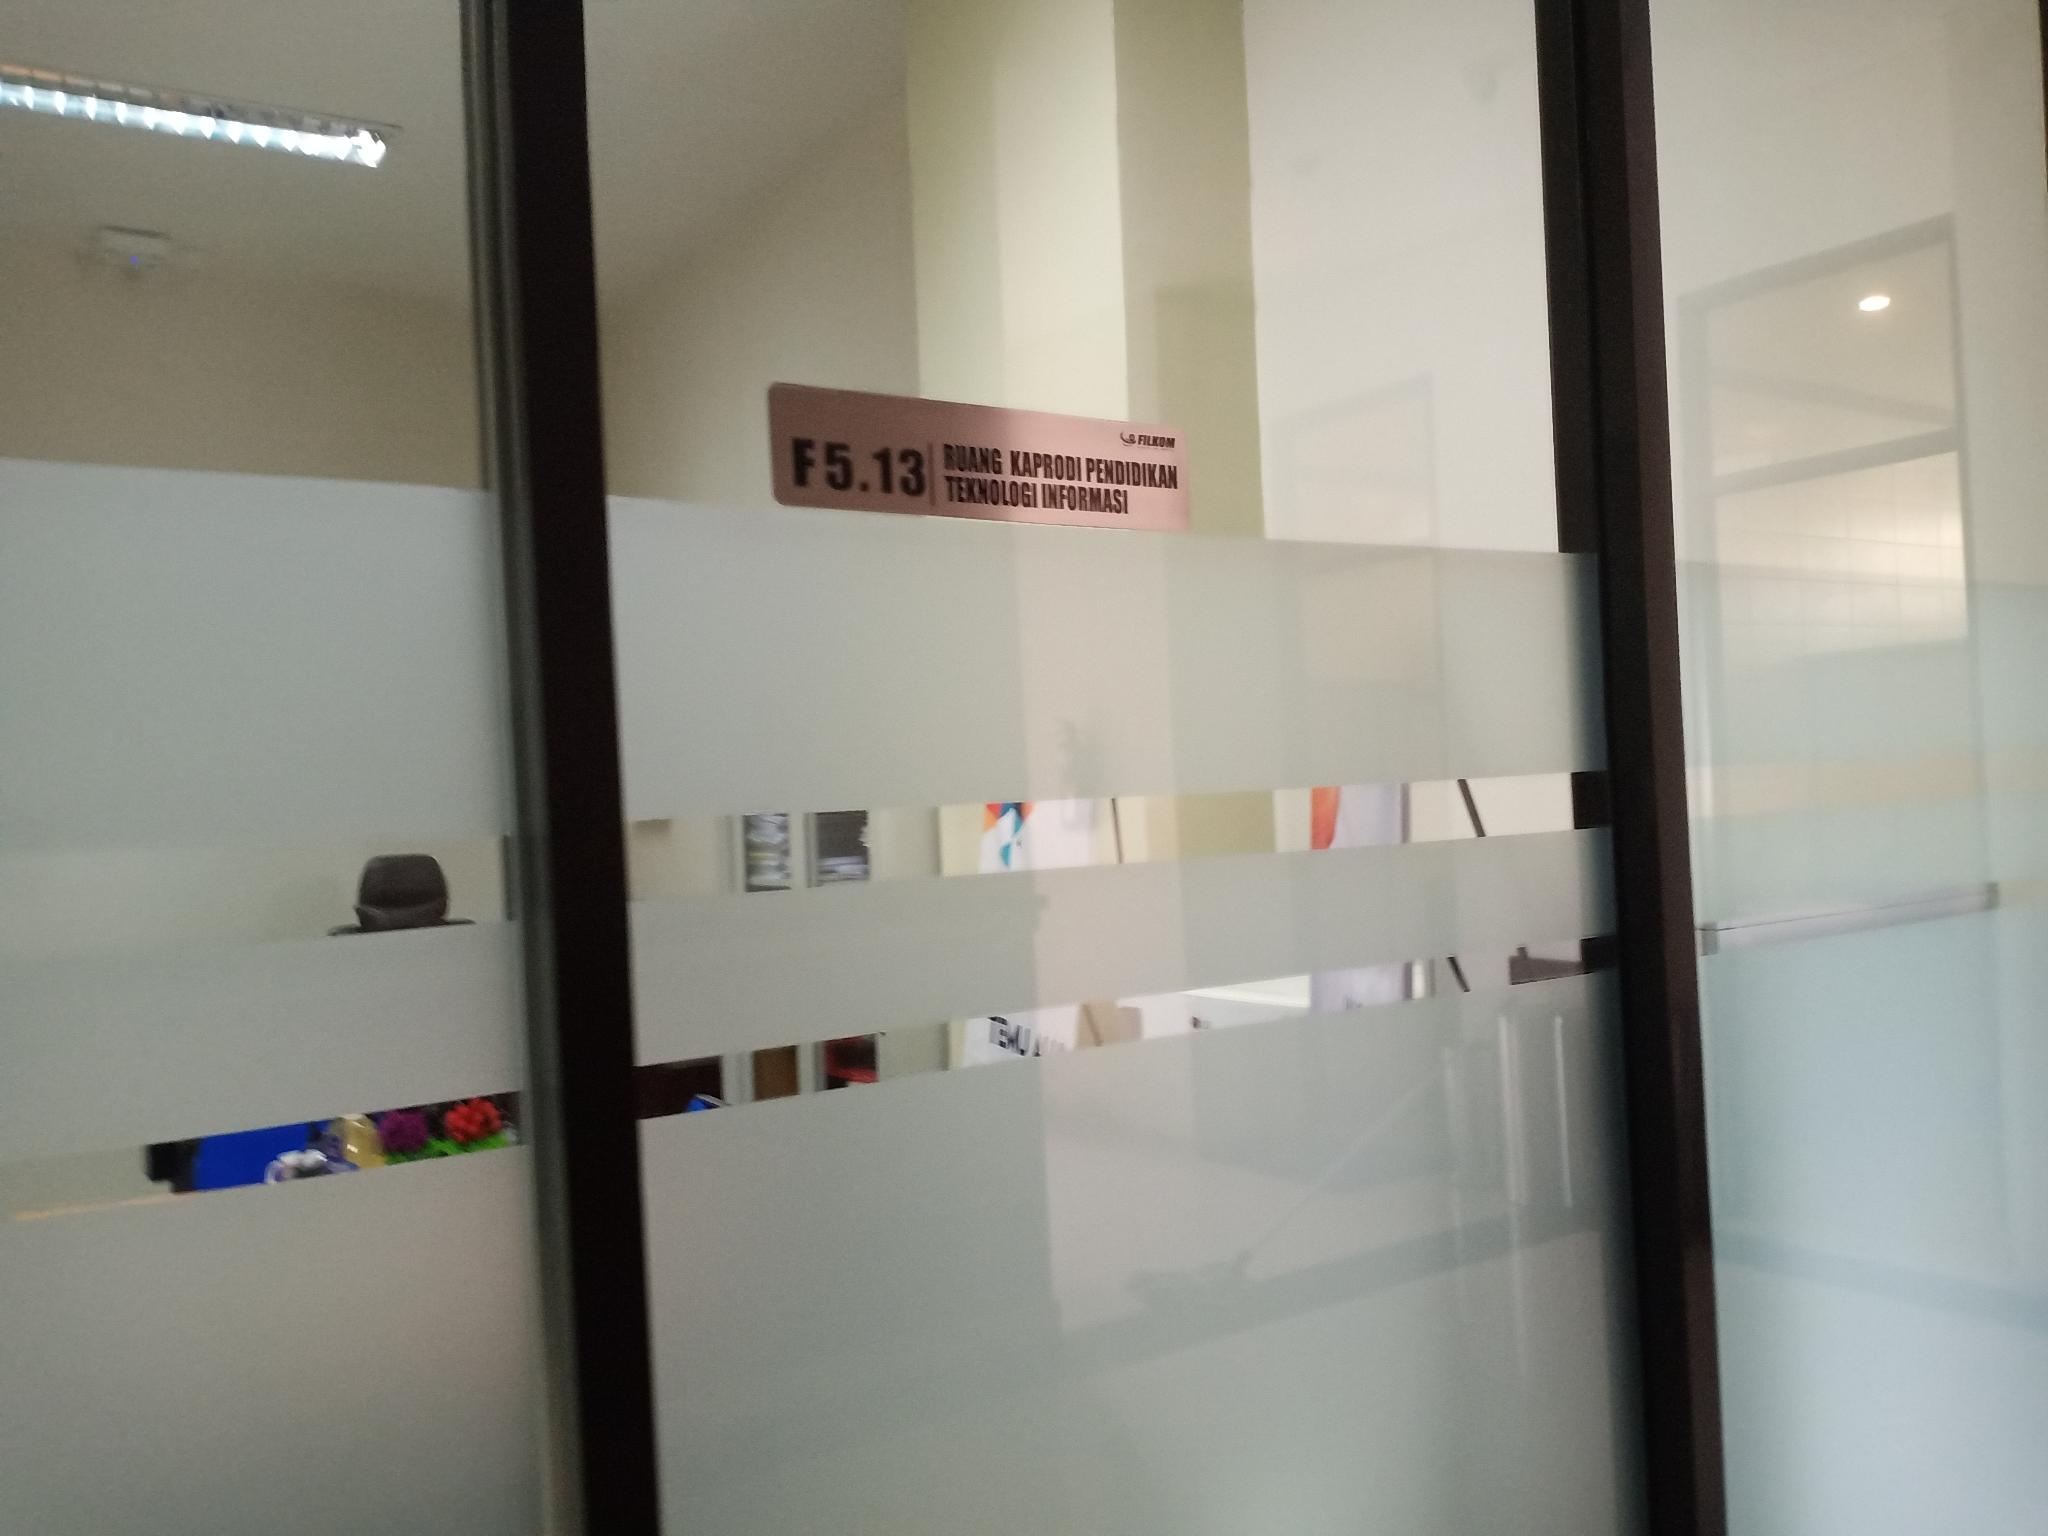plate: (768, 379, 1192, 534)
